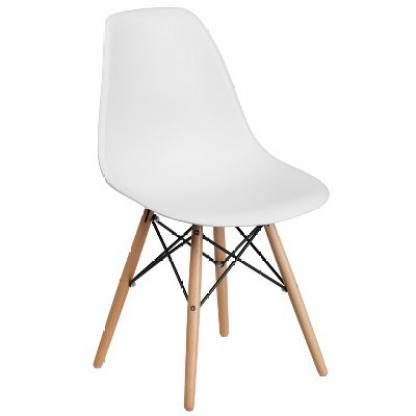chair: (97, 3, 336, 412)
